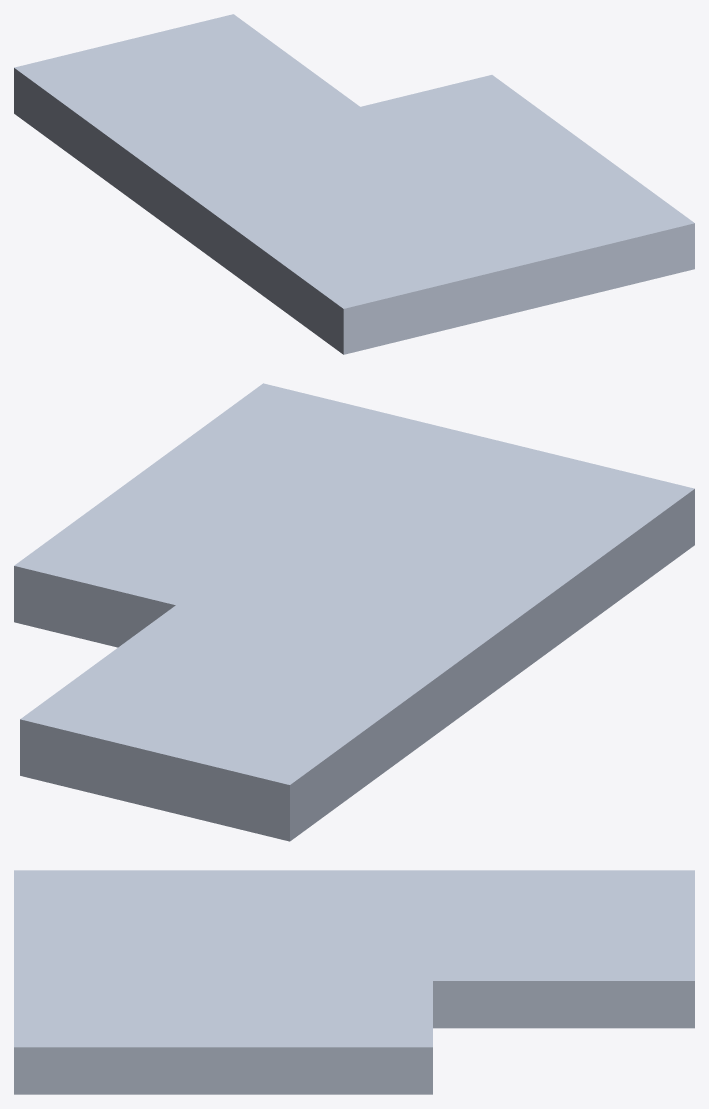
Rendered from nuvem11.fbx.
The picture shows the model from 3 angles, top to bottom: view 1: azimuth 30°, elevation 25°; view 2: azimuth 150°, elevation 25°; view 3: azimuth 270°, elevation 25°; orthographic projection. The views are drawn at different scales.
Parts seen in each view (by area): view 1: Cube.001; view 2: Cube.001; view 3: Cube.001.
Boxes of the visible parts, box(x1,y1,x2,y2) form: Cube.001: box(14, 14, 694, 354); Cube.001: box(14, 383, 694, 841); Cube.001: box(14, 870, 694, 1094).
Bounding box in the file's own units: 800 × 100 × 1300.
